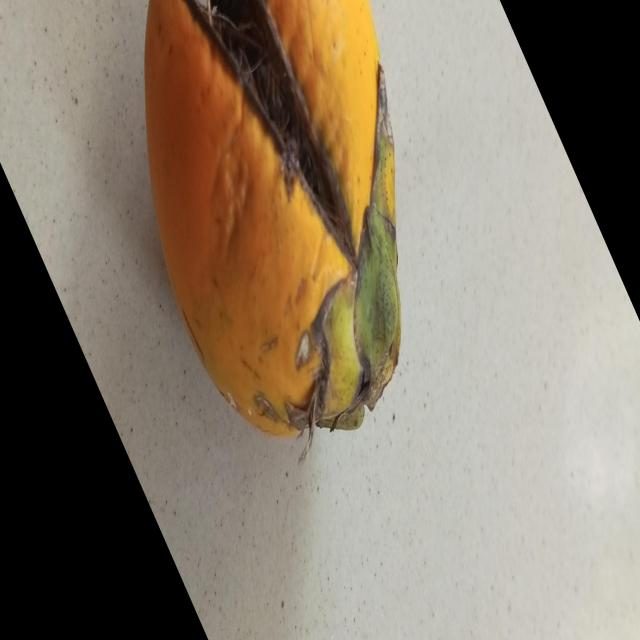damaged: (145, 0, 401, 459)
